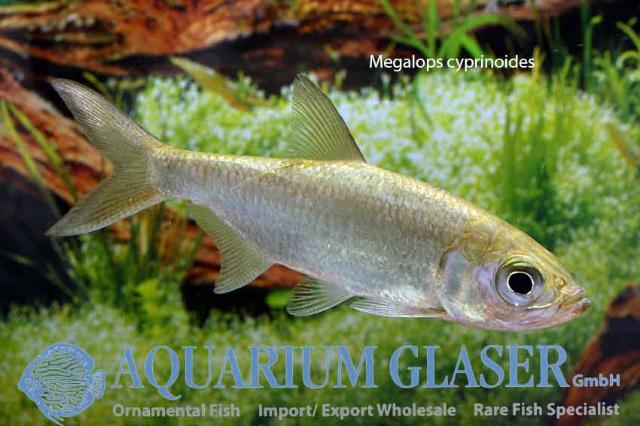Mulut: (552, 272, 604, 332)
Sirip Anal: (182, 197, 272, 301)
Sirip Ekor: (38, 69, 174, 240)
Sirip Perut: (346, 279, 460, 331), (284, 264, 352, 328)
Sirip Punggung: (273, 66, 375, 174)
